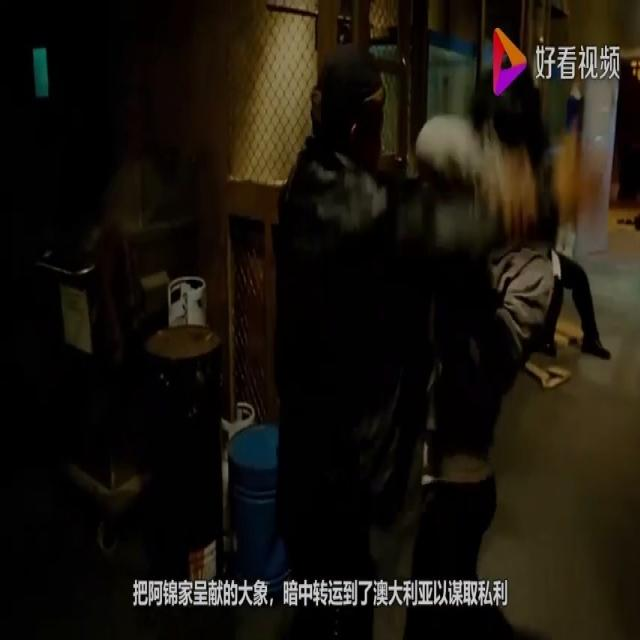fight: (270, 36, 606, 634)
